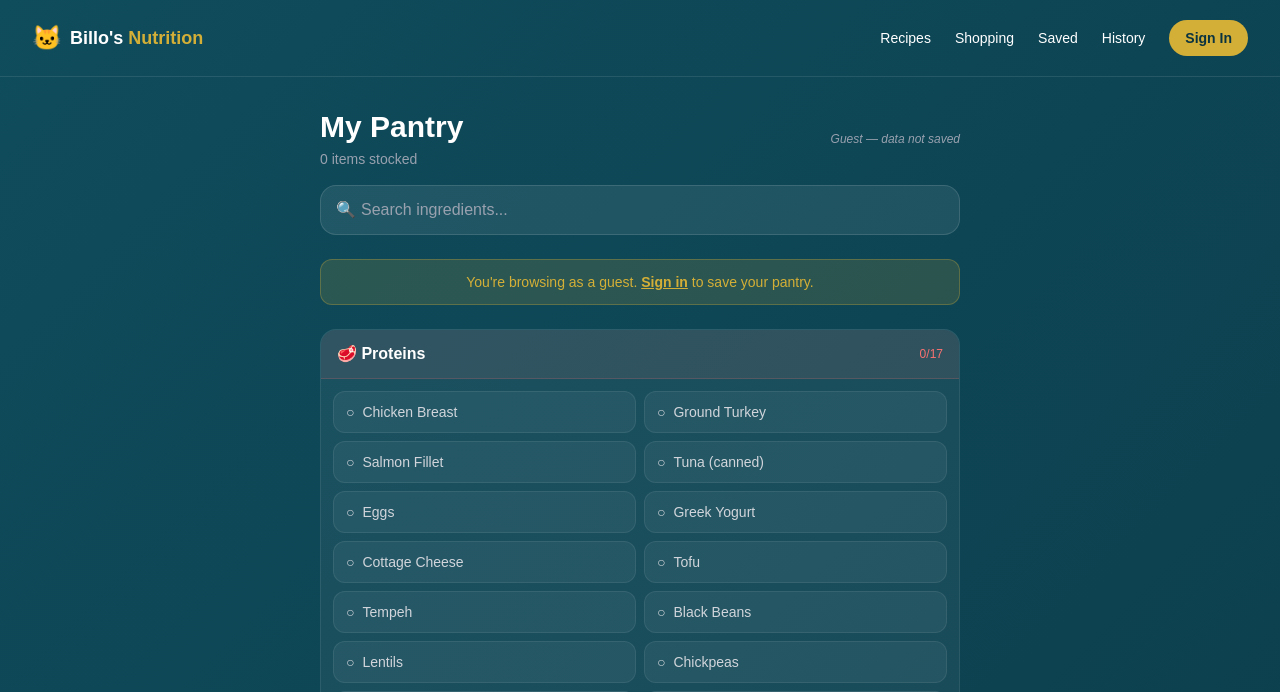
Test: PantryPage › toggles an item and updates stocked count
expect the heading "My Pantry" is shown: met, box 320,109 -> 463,145
Click the button "○ Chicken Breast": (410, 412) 333,391 -> 636,433
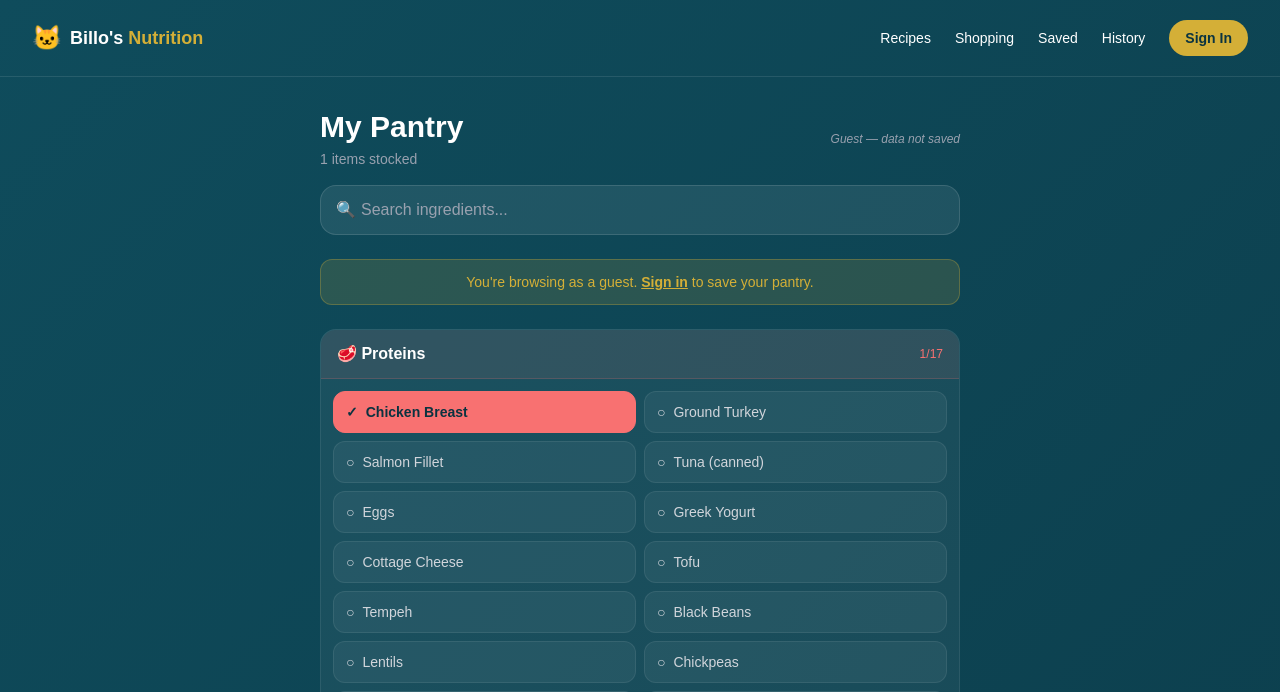
expect the text "1 items stocked" is shown: met, box 320,151 -> 417,167
